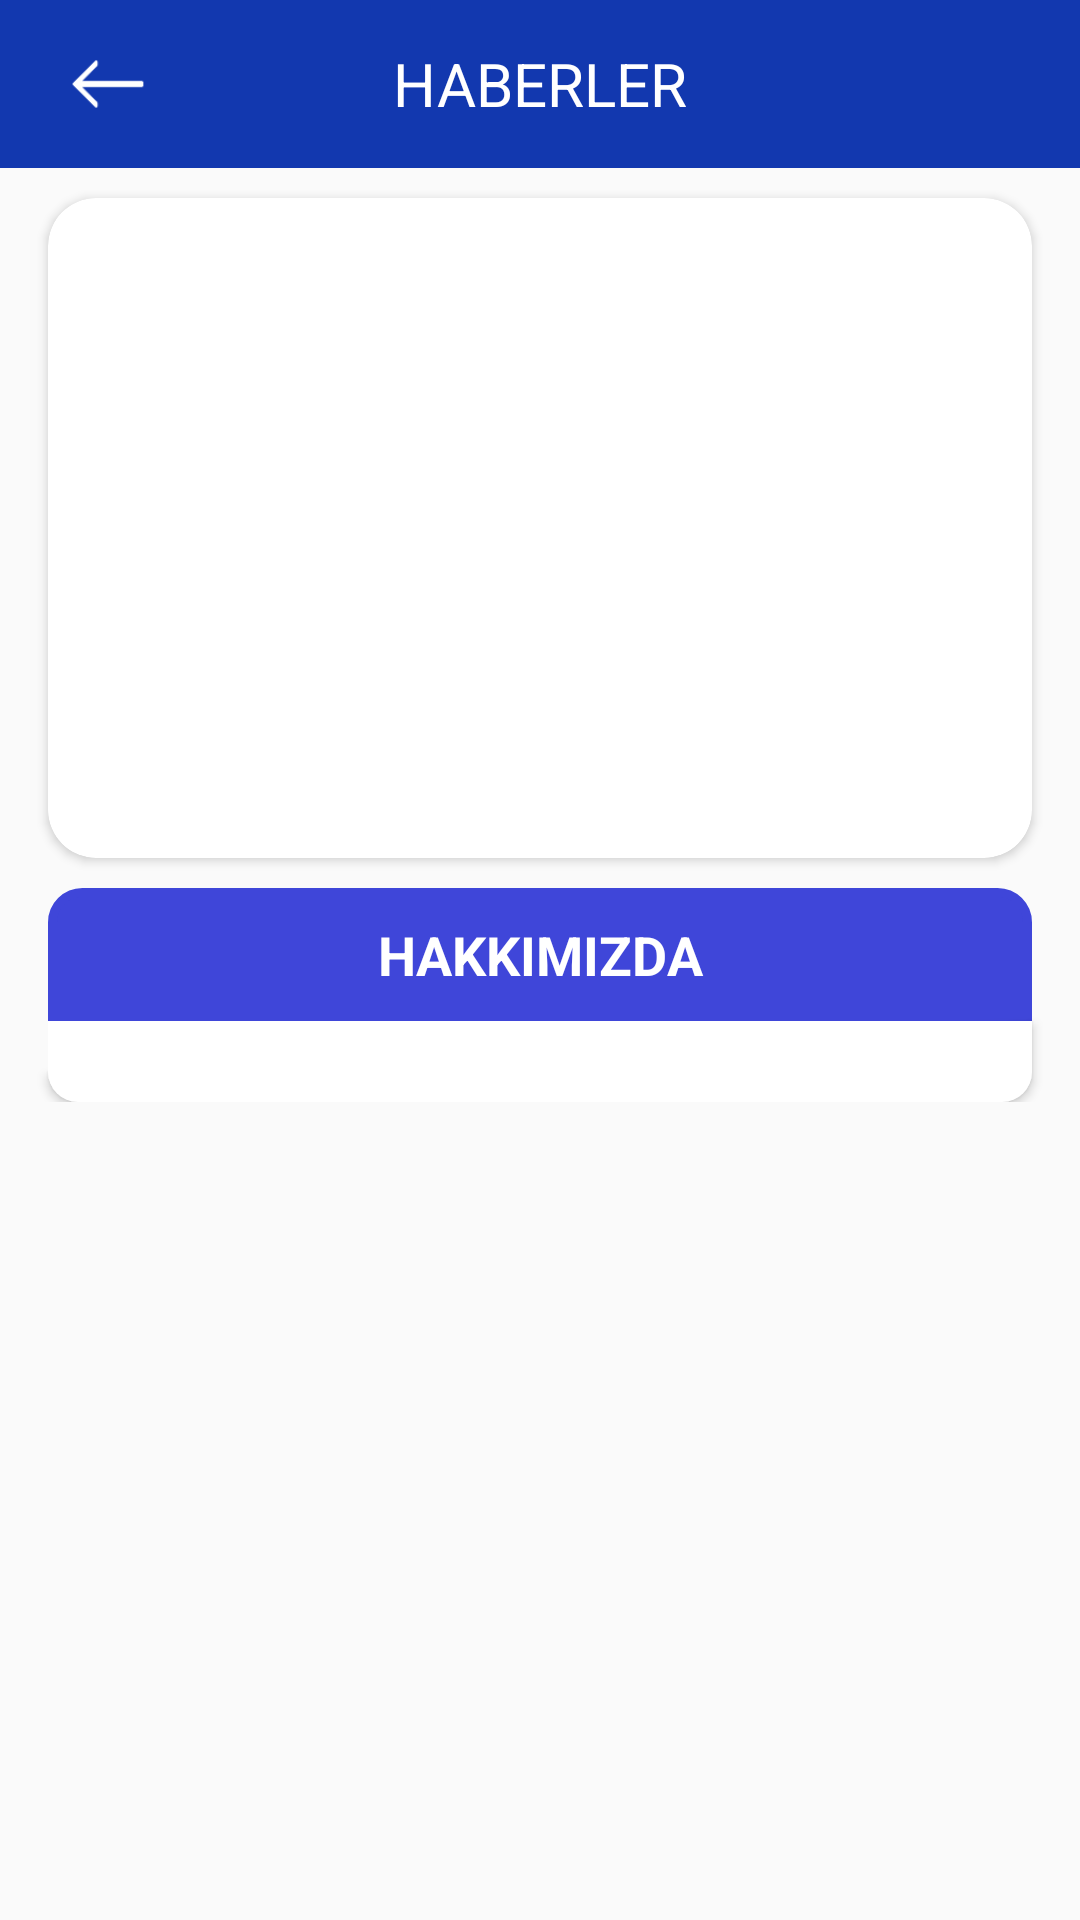

Screen size 1080×1920. Icon name, then its box in pixels as (left=x1, top=y1, right=x2, bottom=y2):
back: (left=72, top=60, right=144, bottom=108)
